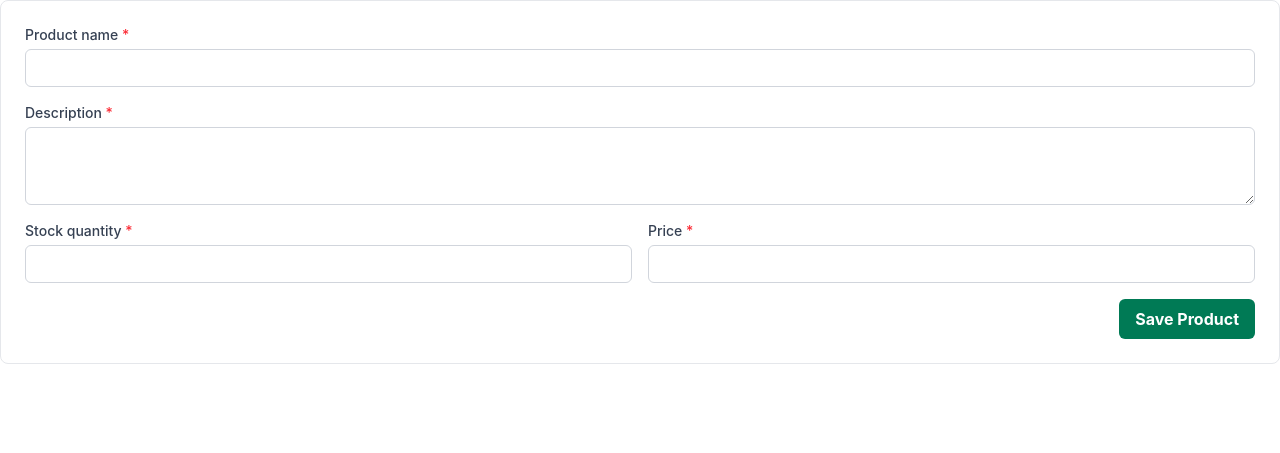
ProductForm.vue › shows error if price exceeds limit
This screenshot has width=1280, height=453.
Type "10000000.00" into the number field labelled "Price *". click: (952, 264)
box: 648,245 -> 1255,283
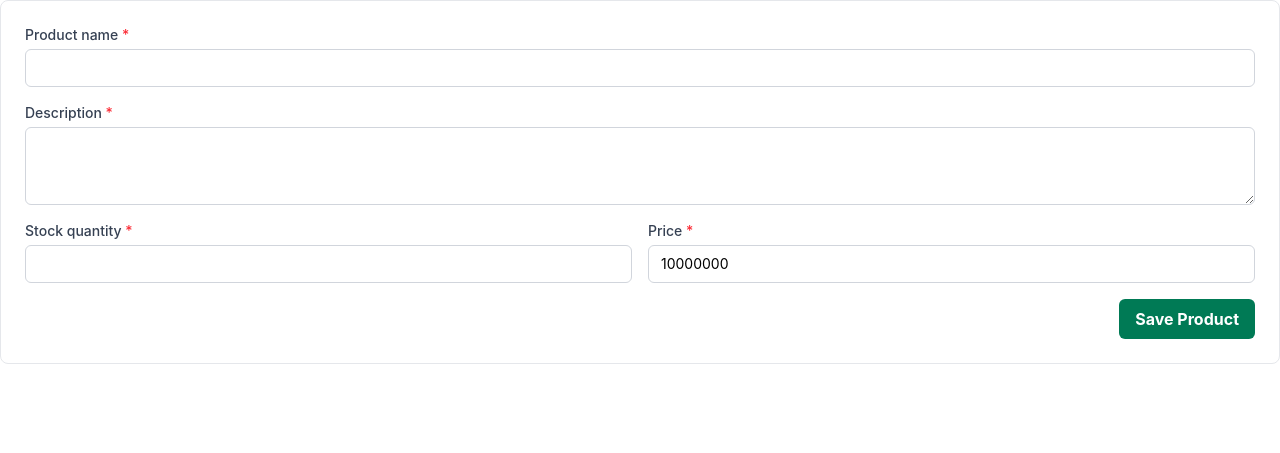
Submit the form
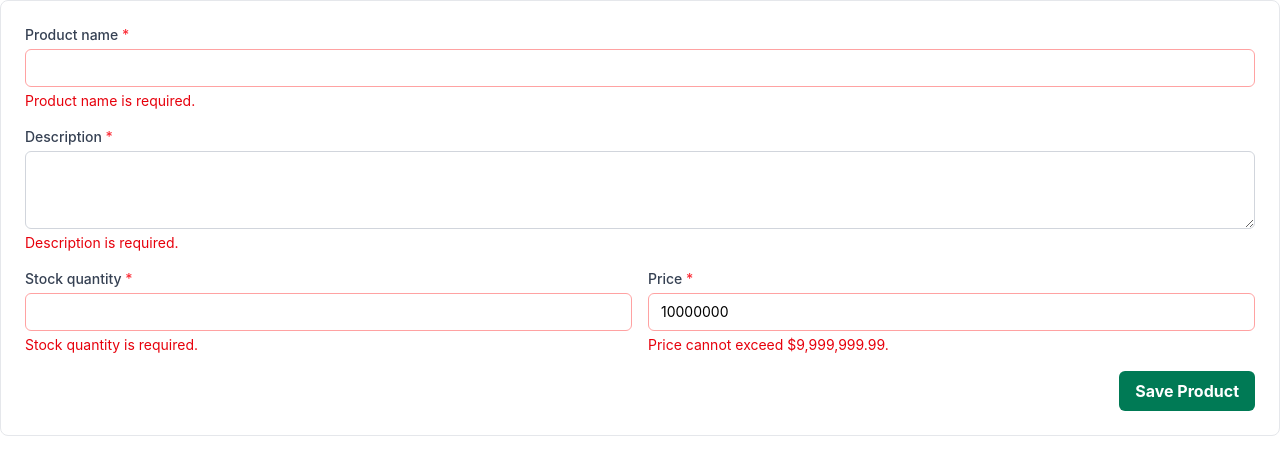
Now the form shows "Price cannot exceed $9,999,999.99.", box 648,336 -> 889,353
